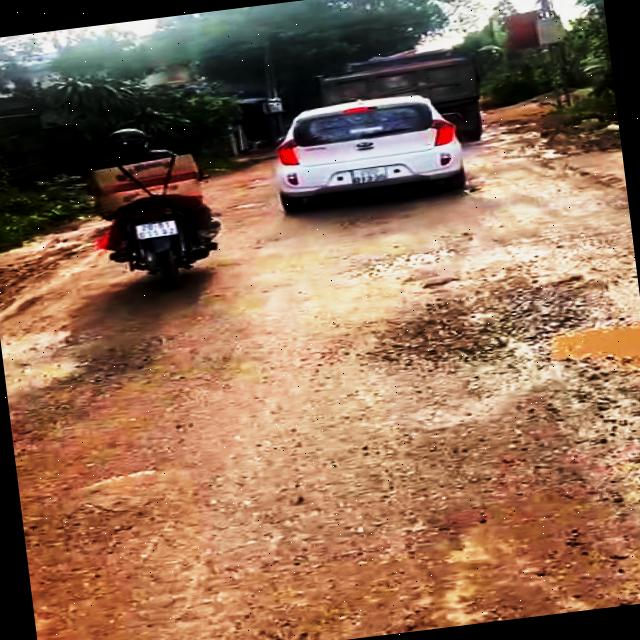pothole: (371, 259, 640, 406)
